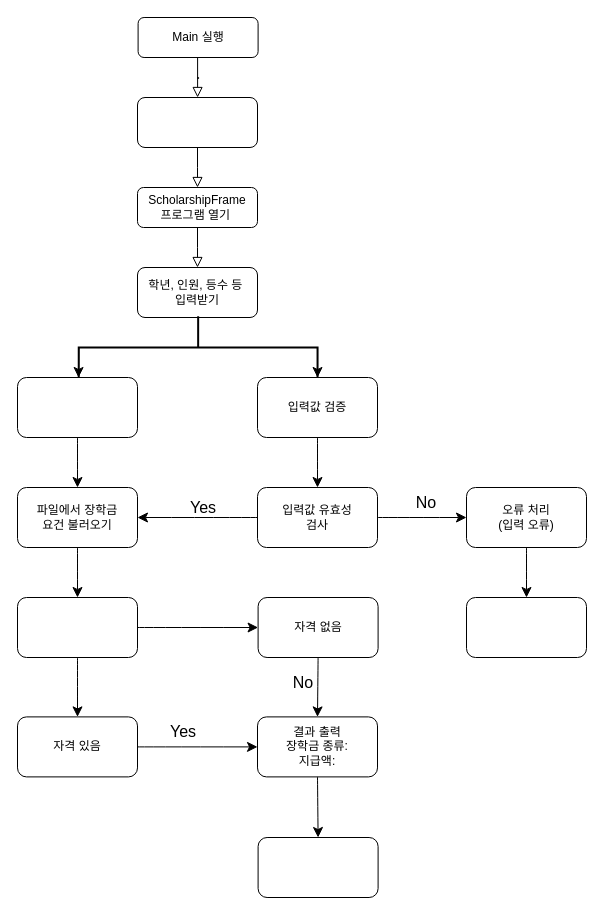
Image size: 604x915. Some labels were removed from this diagram. Here are the shapes that lost their labels. From the top down, the centre of each, then its label:
At [197,122]: "StartScreen 시작버튼 누름".
At [77,407]: "장학금 요건 불러오기 버튼 클릭".
At [77,627]: "장학금 자격 검증".
At [526,627]: "오류 메시지 사용자에게 전달".
At [317,867]: "사용자에게 결과 표시".
